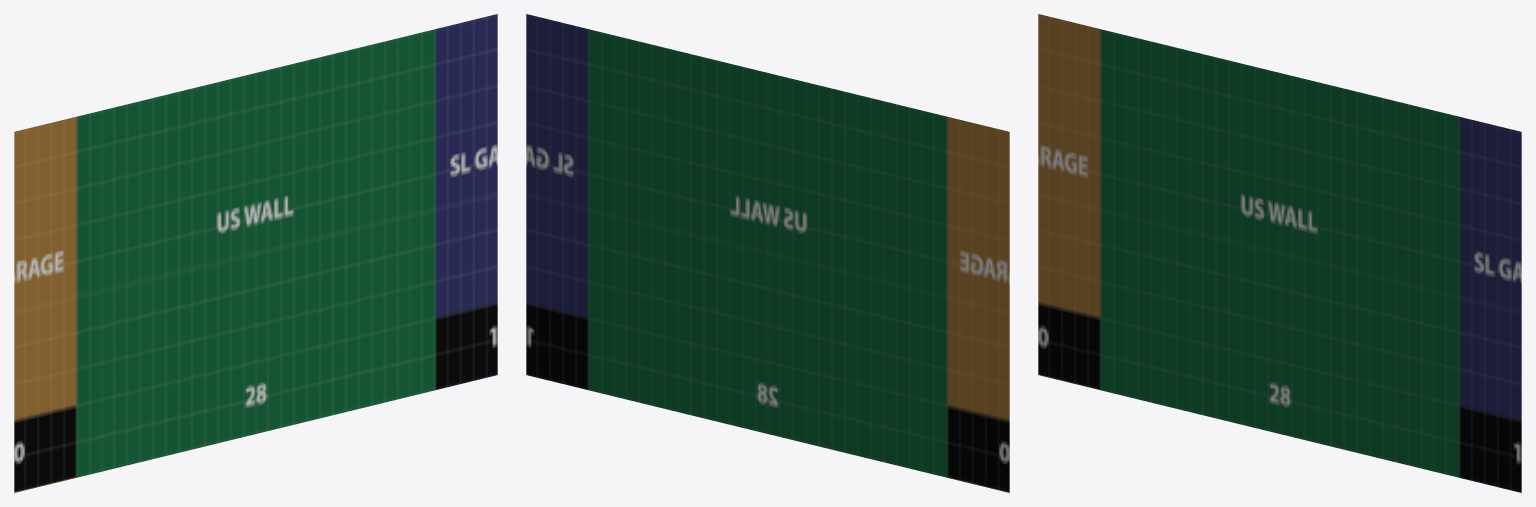
Rendered from ANYMA_Coachella_Stage_v010_LED_US_WALL_FrontP.glb.
3 renders of one model, left to right at view 1: azimuth 30°, elevation 25°; view 2: azimuth 150°, elevation 25°; view 3: azimuth 330°, elevation 25°, orthographic.
Visible parts, largest first — view 1: LED_US_WALL_FrontP; view 2: LED_US_WALL_FrontP; view 3: LED_US_WALL_FrontP.
Boxes of the visible parts, x1,y1,x2,y2 form: LED_US_WALL_FrontP: (14, 14, 497, 492); LED_US_WALL_FrontP: (526, 14, 1009, 492); LED_US_WALL_FrontP: (1038, 14, 1521, 492).
Size of the model in its own units: 16.8 by 12 by 9.54e-07.
1 material, 1 textured.
